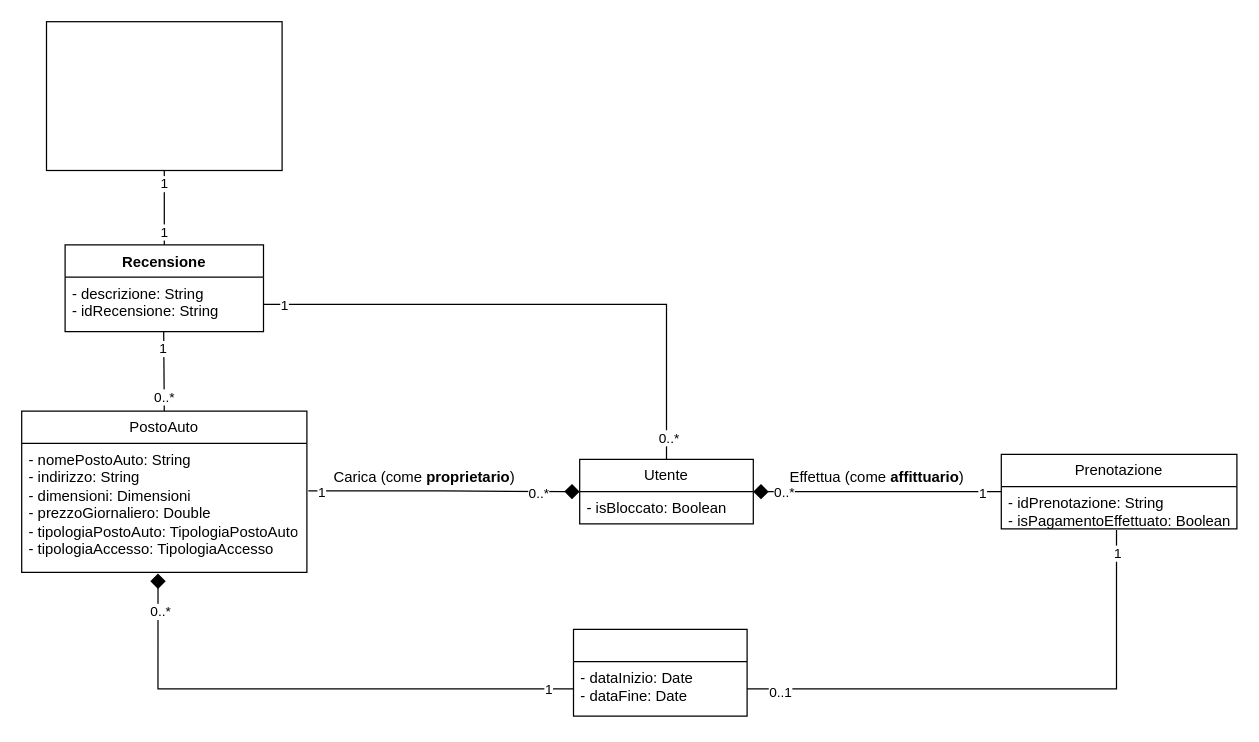
Some shapes in this 1259 by 742 pixel diagram are drawn without their labels. The box of each missing label's shape, as (x1, y1, x2, y2) in pixels:
<<enum>> Valutazione + 1_Stella + 2_Stelle + 3_Stelle + 4_Stelle + 5_Stelle: (45, 20, 282, 170)
RangeDate: (572, 628, 747, 716)
